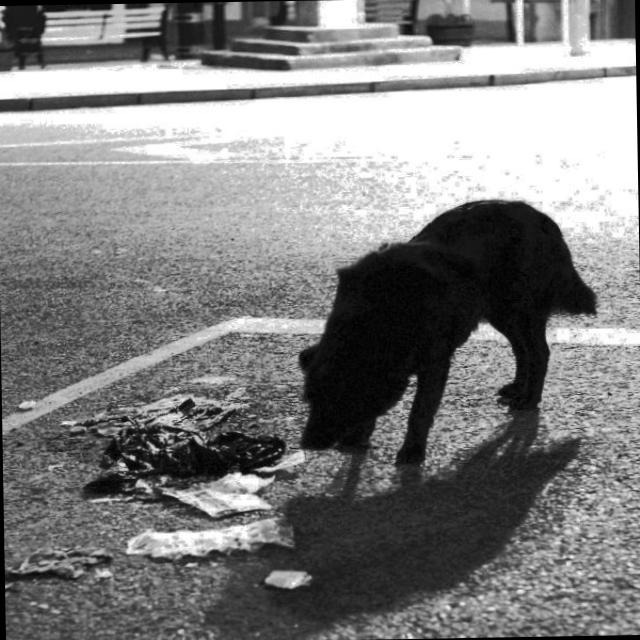Dog: (283, 167, 640, 496)
